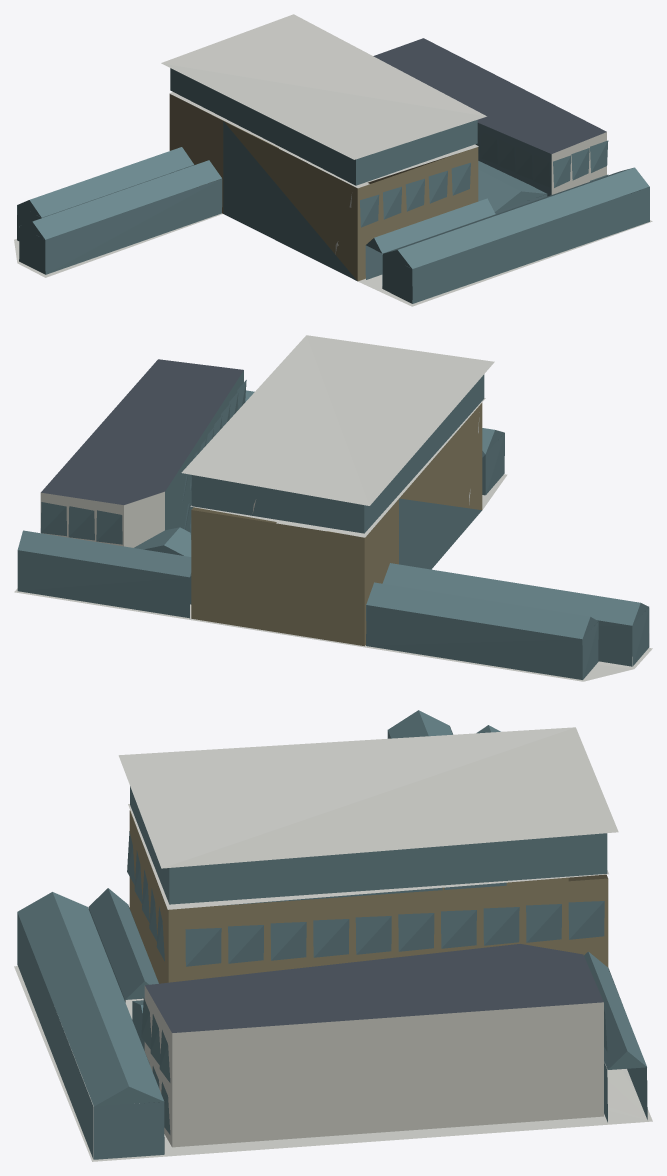
Rendered from mediamatic.lod2.glb.
3 renders of one model, top to bottom at view 1: azimuth 30°, elevation 25°; view 2: azimuth 150°, elevation 25°; view 3: azimuth 270°, elevation 25°, orthographic. The views are drawn at different scales.
Visible parts, largest first — view 1: lod2; view 2: lod2; view 3: lod2.
Boxes of the visible parts, <box> form: lod2: <box>14,14,652,306</box>; lod2: <box>14,335,652,681</box>; lod2: <box>14,710,652,1161</box>.
Size of the model in its own units: 45.33 by 10.65 by 31.84.
